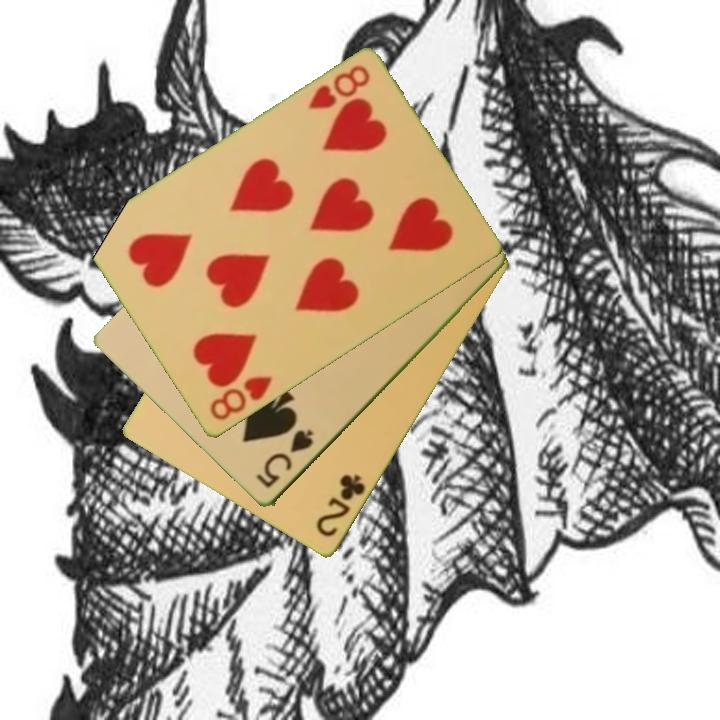2c: (313, 471, 369, 541)
5s: (252, 426, 317, 492)
8h: (206, 373, 276, 424), (304, 62, 373, 113)
